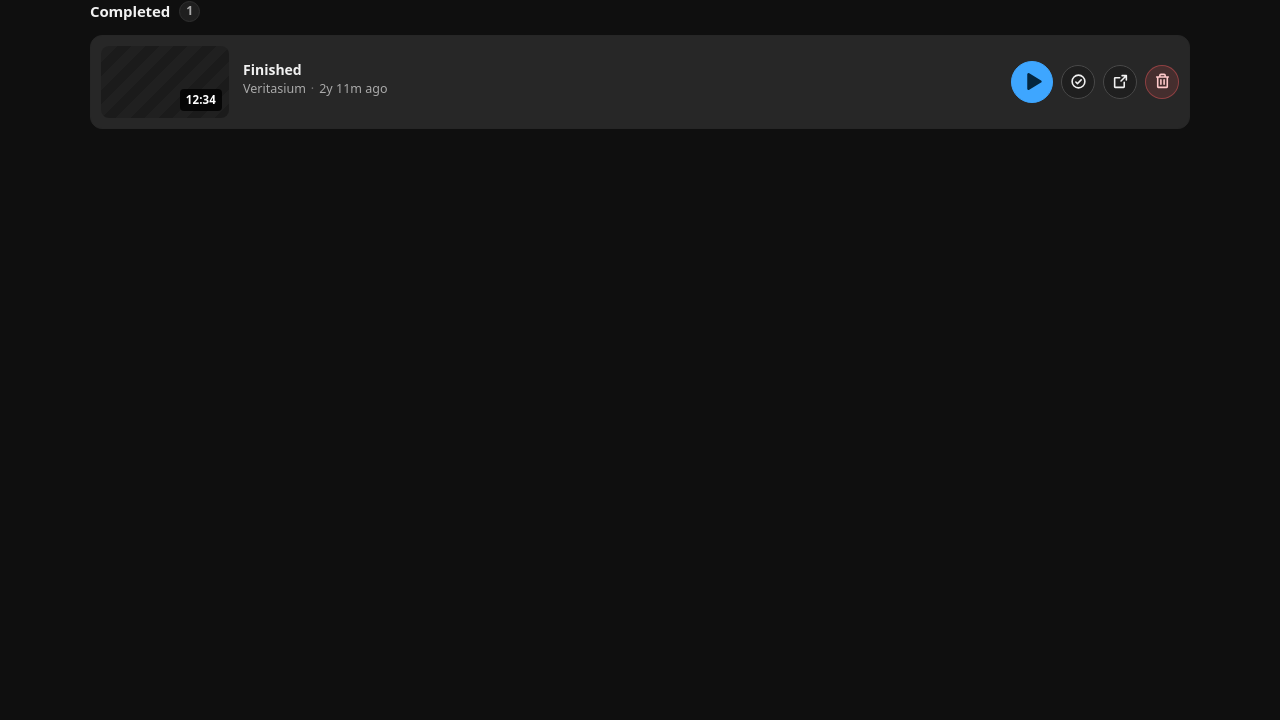
Test: Downloads row actions › keeps the file, and the row, when the prompt is dismissed
The width and height of the screenshot is (1280, 720).
Click the button named "Mark as watched" at (1078,82), box left=1061, top=64, right=1095, bottom=98
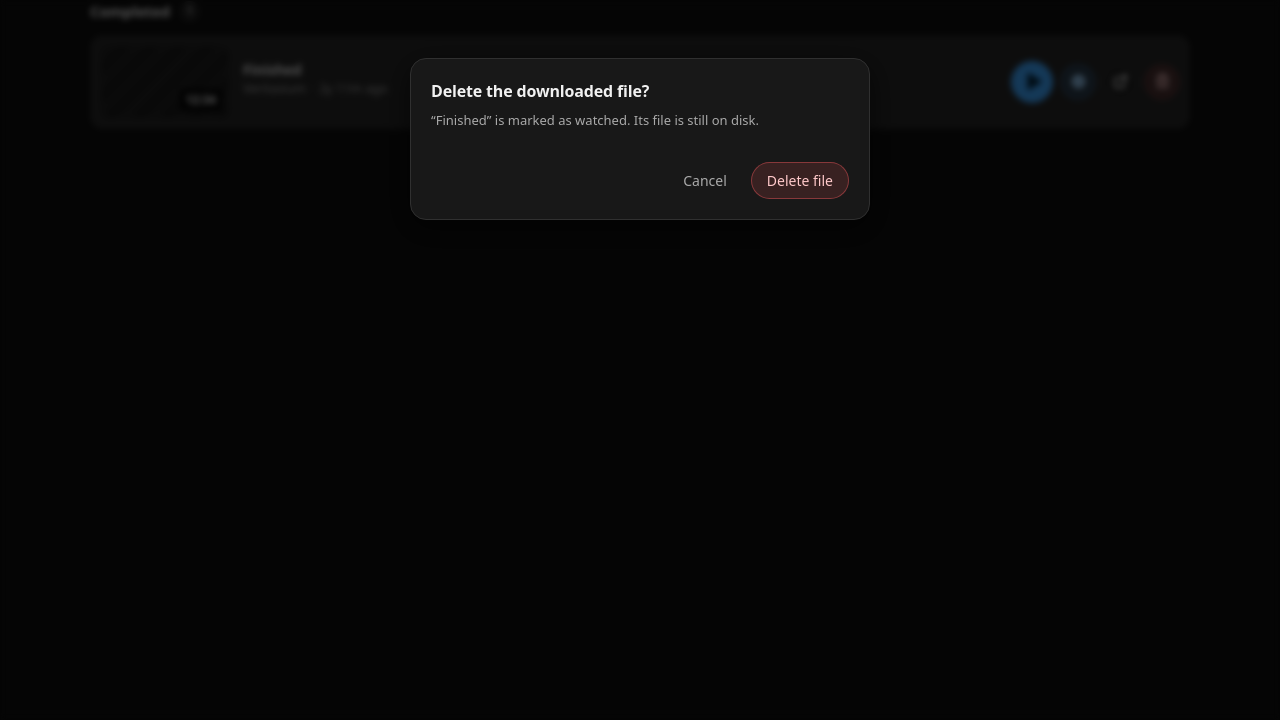
Click the button "Cancel" at (705,181), box left=667, top=162, right=743, bottom=199
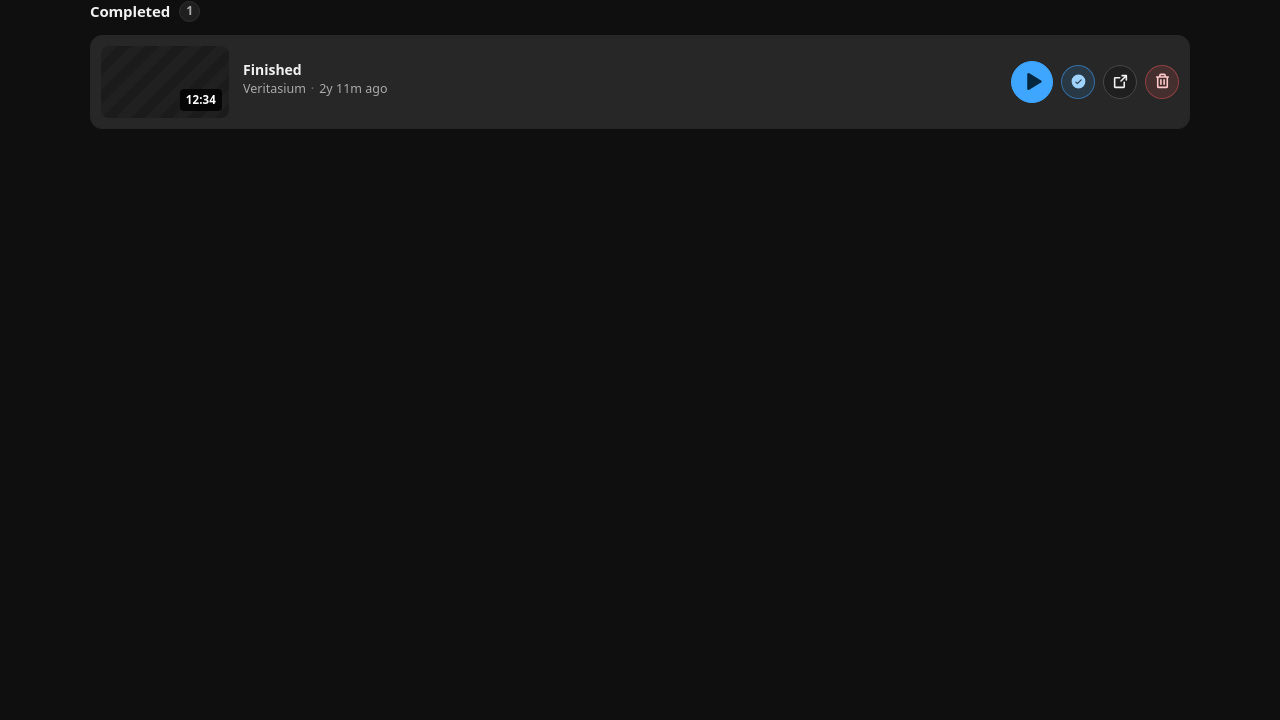
Expected: the text "Finished" is shown, left=243, top=60, right=302, bottom=79
Result: the button named "Mark as unwatched" is shown at left=1061, top=64, right=1095, bottom=98
Result: the dialog is gone
